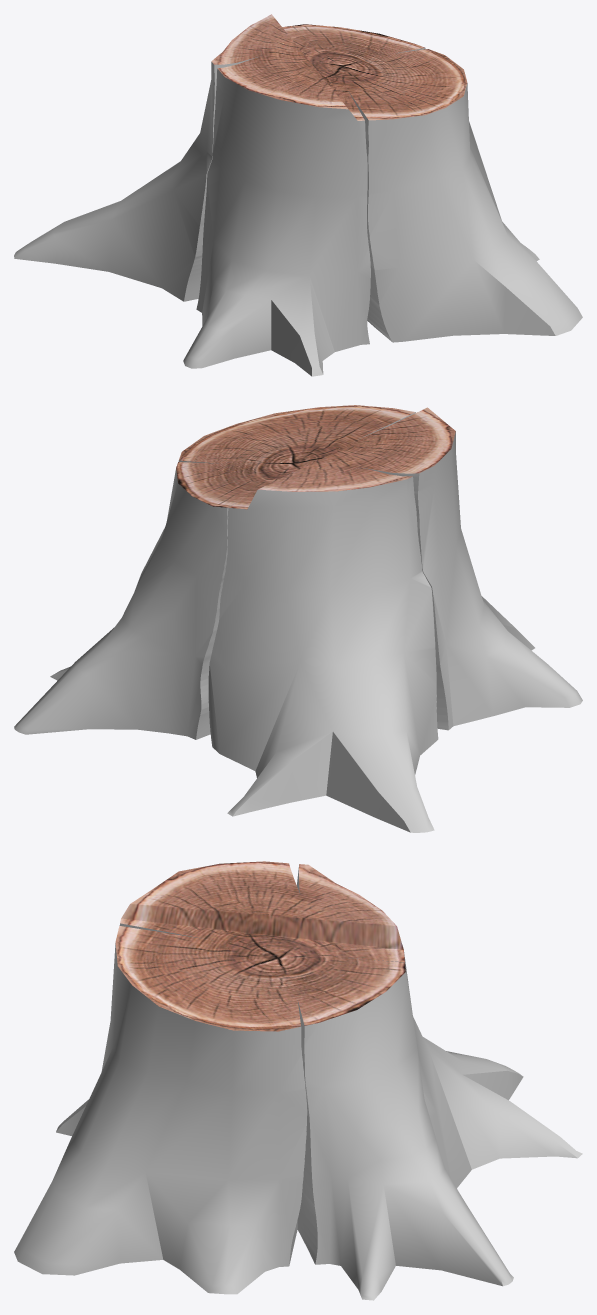
File: Tree_Stump.fbx
3 renders of one model, top to bottom at view 1: azimuth 30°, elevation 25°; view 2: azimuth 150°, elevation 25°; view 3: azimuth 270°, elevation 25°, orthographic. The views are drawn at different scales.
Visible parts, largest first — view 1: Stump, Stump.001; view 2: Stump, Stump.001; view 3: Stump, Stump.001.
Boxes of the visible parts, left/top/right/bottom form: Stump: left=14, top=26, right=582, bottom=376; Stump.001: left=211, top=14, right=467, bottom=120; Stump: left=14, top=412, right=582, bottom=832; Stump.001: left=176, top=405, right=455, bottom=509; Stump: left=14, top=864, right=582, bottom=1300; Stump.001: left=115, top=861, right=405, bottom=1031.
Size of the model in its own units: 0.3099 by 0.1693 by 0.3242.
